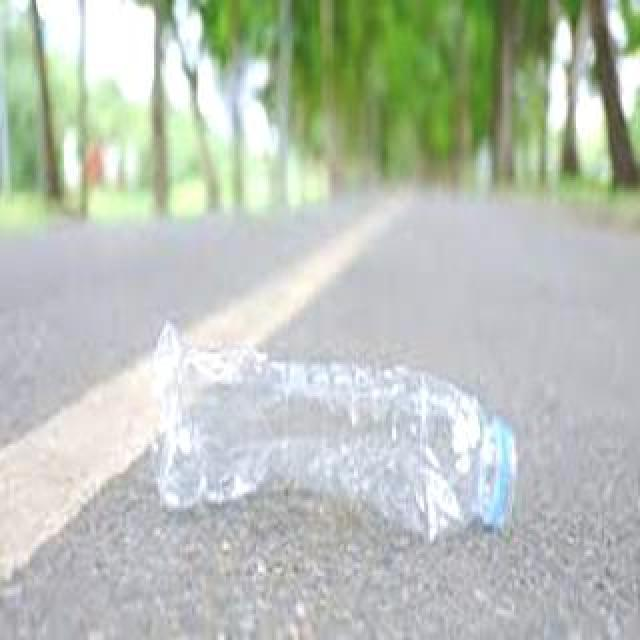Pet_Bottle: (146, 308, 528, 550)
